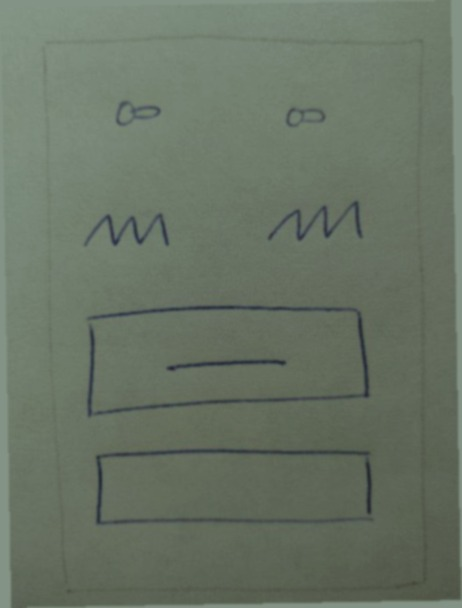button: (77, 293, 374, 421)
switch: (102, 86, 172, 133), (275, 94, 342, 139)
text: (260, 189, 372, 250), (72, 200, 180, 255)
text_input: (85, 439, 385, 536)
